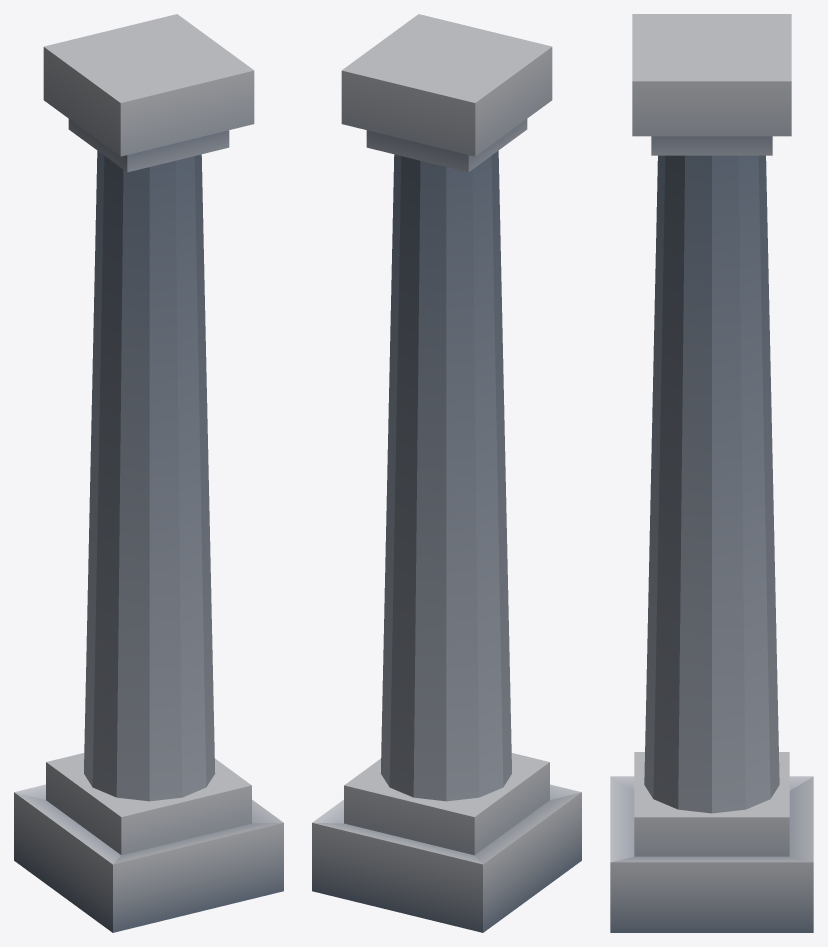
File: Pillar.fbx
The picture shows the model from 3 angles, left to right: view 1: azimuth 30°, elevation 25°; view 2: azimuth 150°, elevation 25°; view 3: azimuth 270°, elevation 25°; orthographic projection. The views are drawn at different scales.
Parts seen in each view (by area): view 1: Pillar; view 2: Pillar; view 3: Pillar.
Boxes of the visible parts, <box> form: Pillar: <box>14,14,283,932</box>; Pillar: <box>312,14,581,932</box>; Pillar: <box>610,14,813,932</box>.
Size of the model in its own units: 95.25 by 435 by 95.25.
